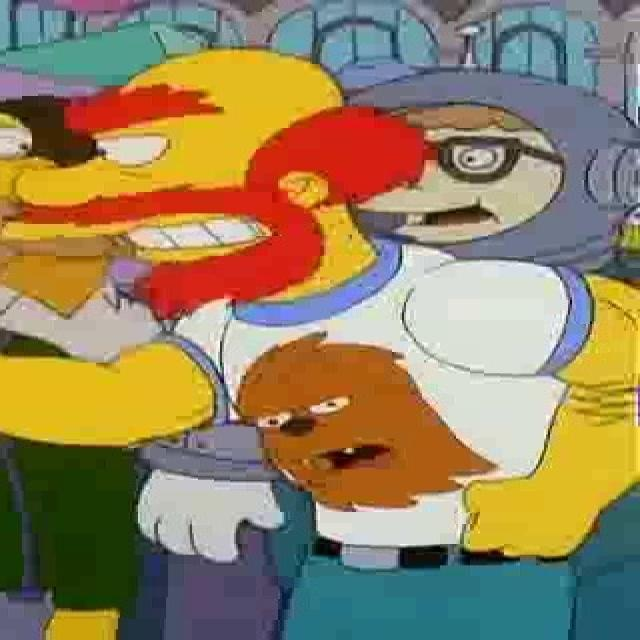Groundskeeper Willie: (0, 45, 436, 326)
